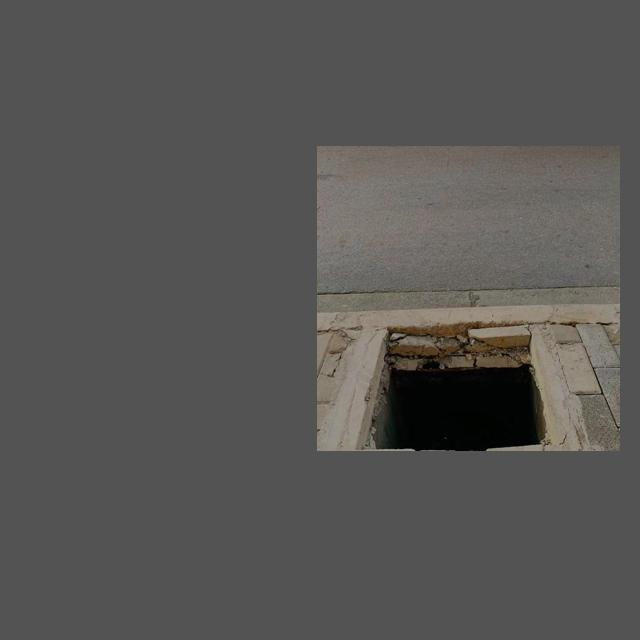lose: (342, 309, 566, 449)
